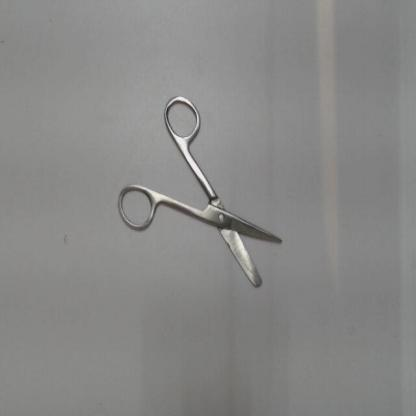Dressing Scissors: (109, 83, 293, 306)
